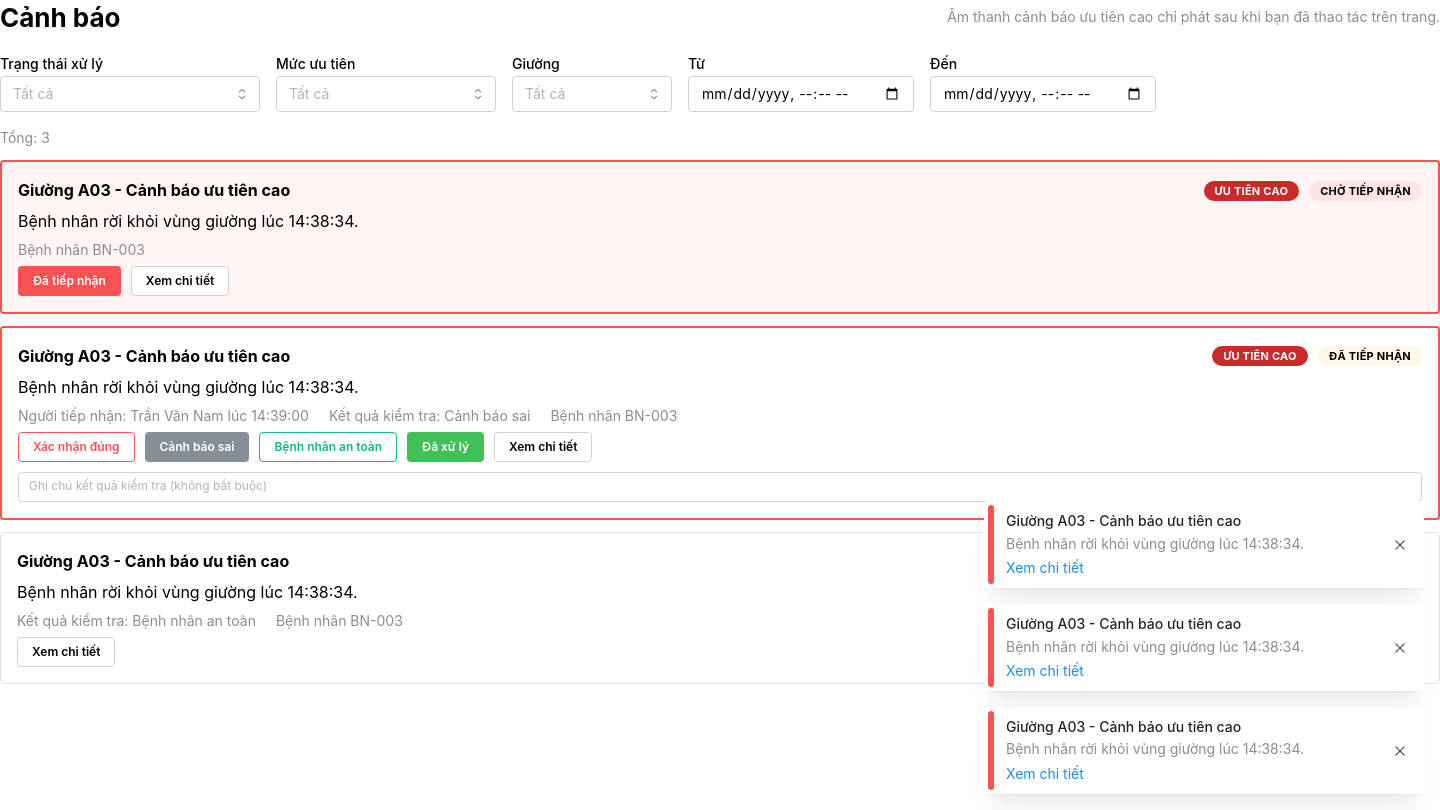
AlertsPage › does not render internal codes
Click the 1st button "Xem chi tiết".
click(180, 281)  # box left=131, top=266, right=229, bottom=296
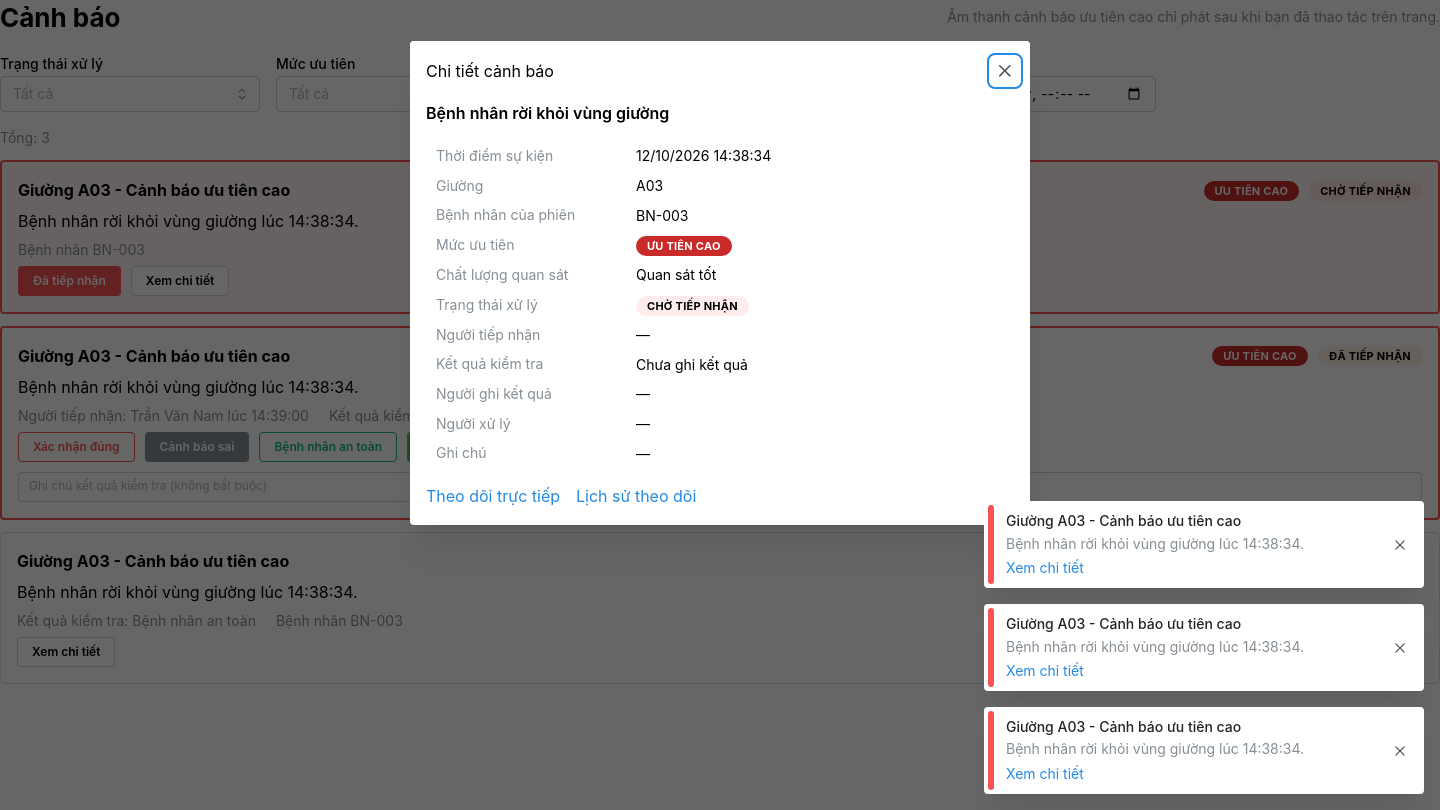
Expected: the dialog is shown, left=410, top=40, right=1030, bottom=525
